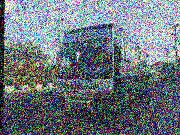bus: (55, 21, 152, 118)
